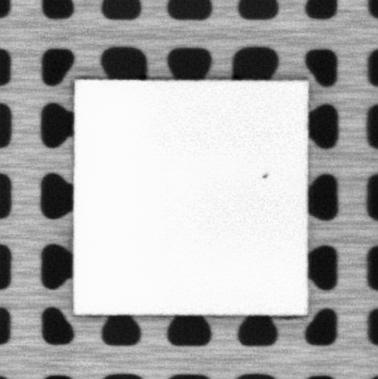DIE_INK: (261, 170, 272, 182)
